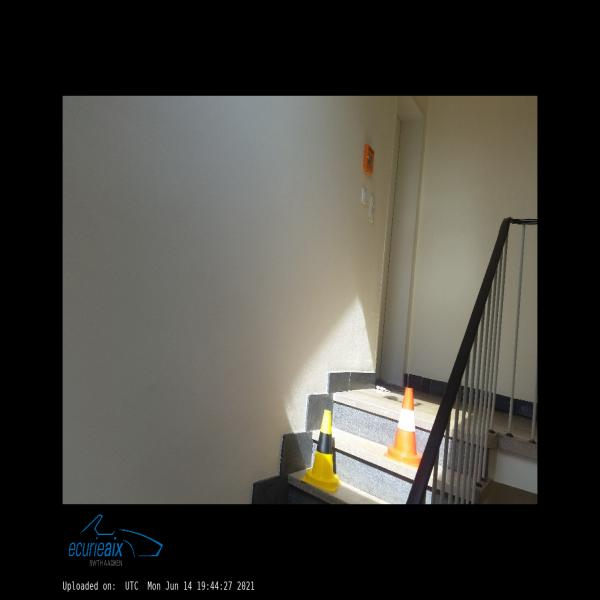orange_cone: (384, 387, 422, 467)
yellow_cone: (301, 410, 341, 492)
